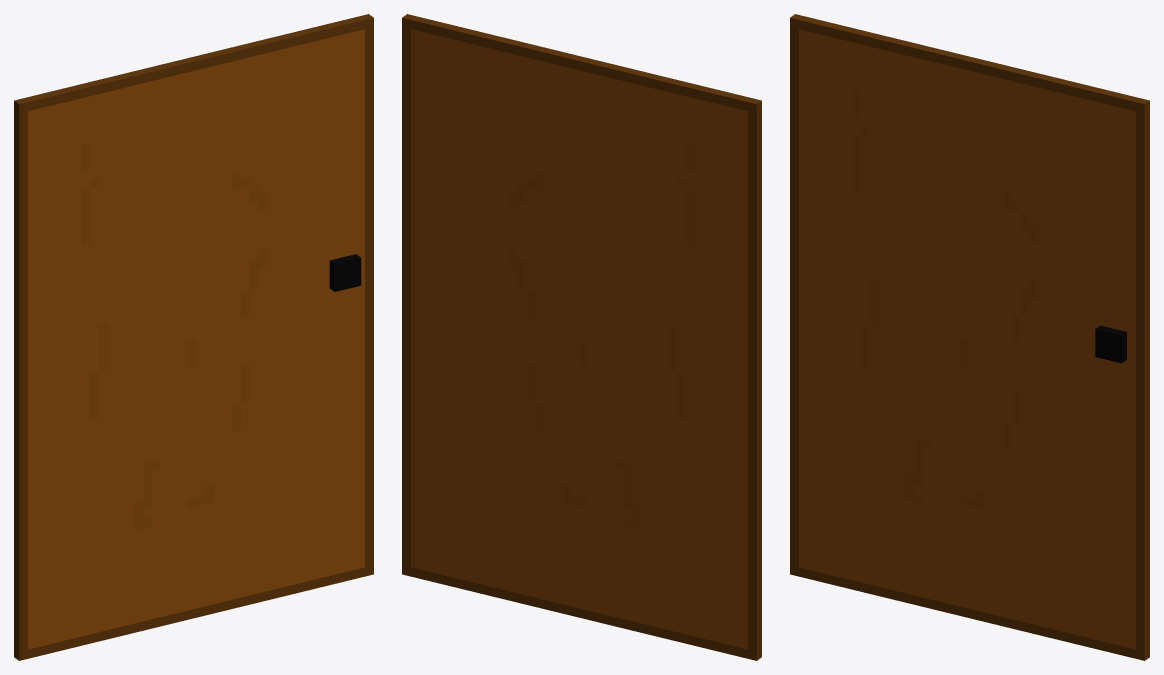
Rendered from closet_door.obj.
3 renders of one model, left to right at view 1: azimuth 30°, elevation 25°; view 2: azimuth 150°, elevation 25°; view 3: azimuth 330°, elevation 25°, orthographic.
Size of the model in its own units: 4 by 6 by 0.2.
1 material, 1 textured.
